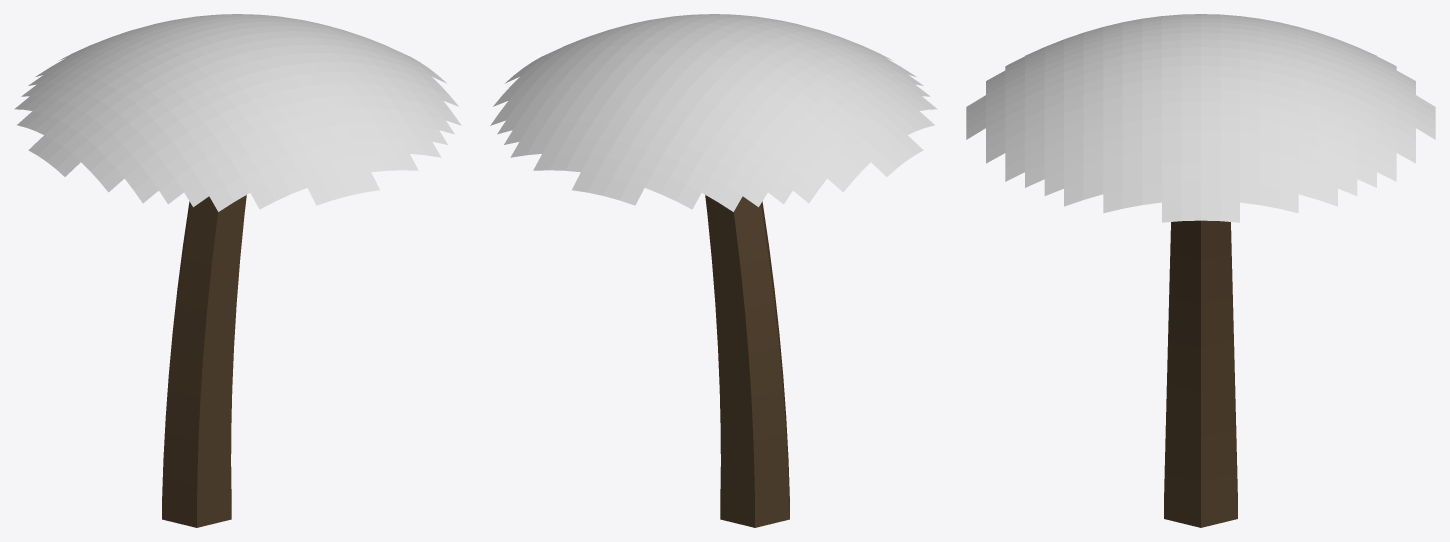
File: ZonTree02.glb
3 views of the same model, side by side, from view 1: azimuth 30°, elevation 25°; view 2: azimuth 150°, elevation 25°; view 3: azimuth 270°, elevation 25° (orthographic). The views are drawn at different scales.
Parts seen in each view (by area): view 1: ZonTree02; view 2: ZonTree02; view 3: ZonTree02.
Part boxes in pixels (x1,y1,x2,y2): ZonTree02: (14, 14, 461, 527); ZonTree02: (490, 14, 937, 527); ZonTree02: (966, 14, 1435, 527).
Bounding box in the file's own units: 4.94 × 5.62 × 4.94.
